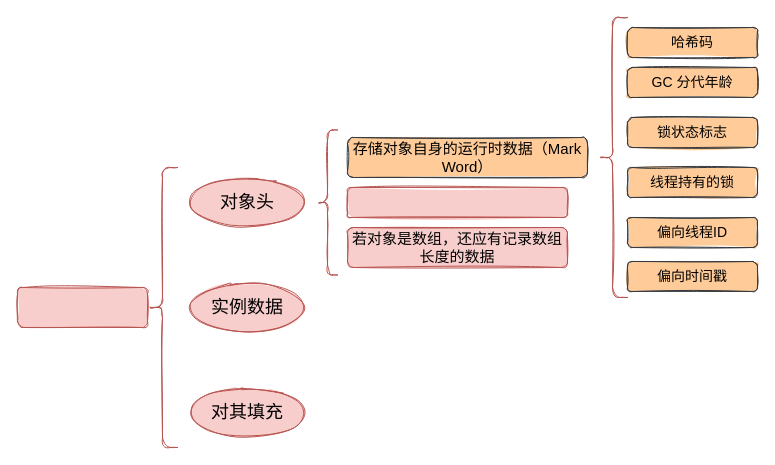
The diagram is 775 pixels wide and 465 high, and some of its shapes have lost their labels. Here are the shapes that lost their labels. From the top down, the box of each, then its label:
(346, 186, 568, 218): 类型指针
(16, 286, 148, 328): 对象
